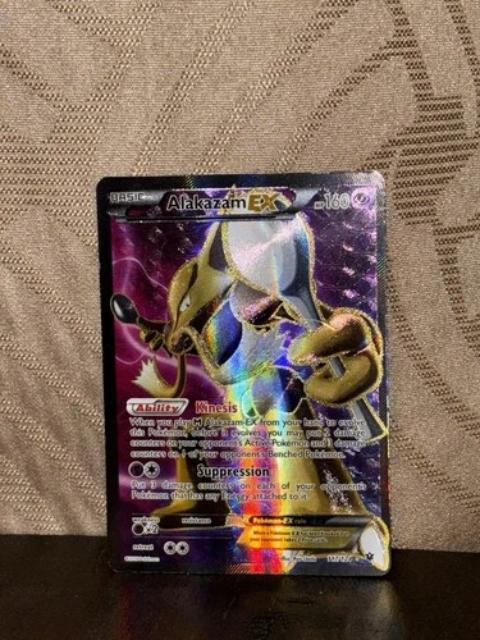Card: (91, 164, 397, 580)
Name: (160, 188, 285, 217)
